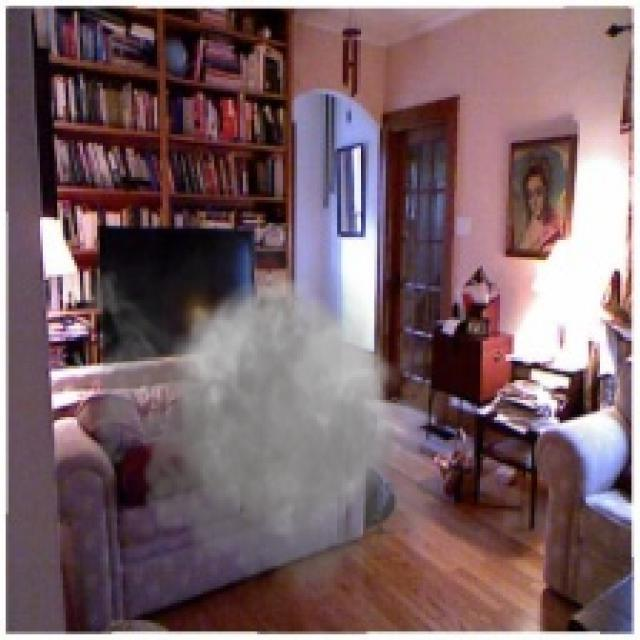Smoke: (68, 202, 454, 614)
